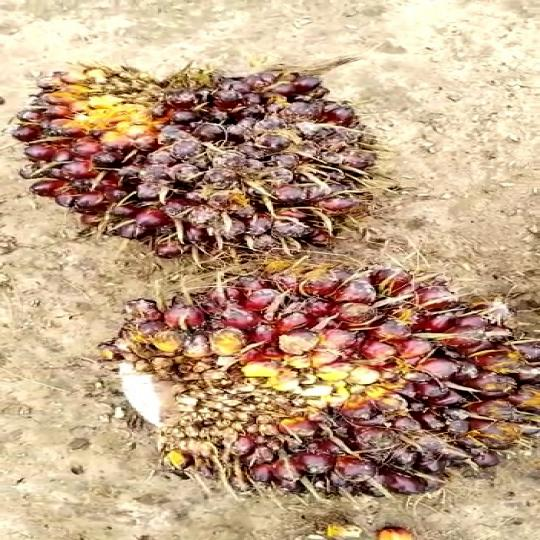kurang masak: (101, 269, 539, 505), (19, 49, 408, 249)
